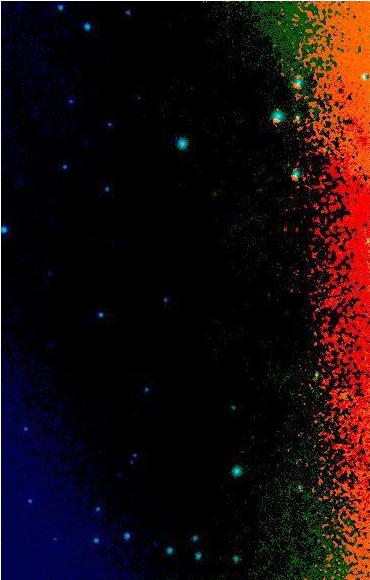star: (241, 276, 271, 306)
